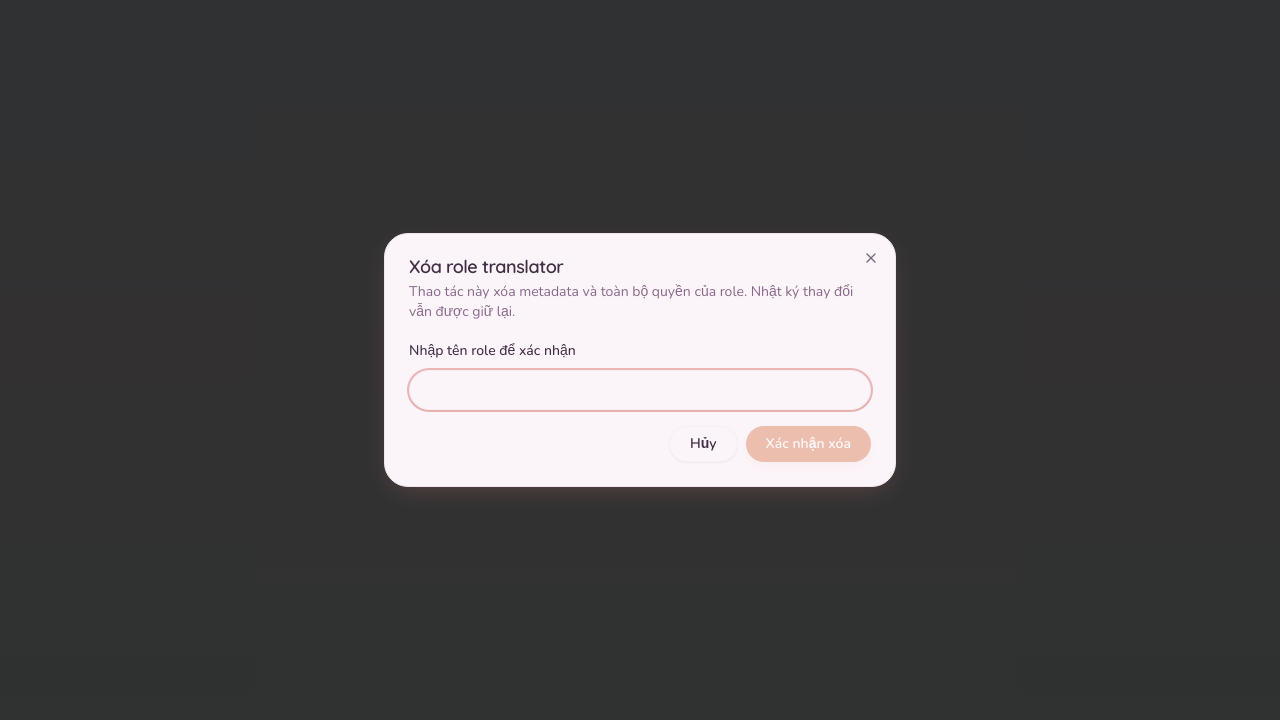
RoleDeleteDialog › requires the exact case-sensitive role name before deletion
Expected: the button "Xác nhận xóa" is disabled, [746,426,871,462]
Step 1. Type "Translator" into the field labelled "Nhập tên role để xác nhận" → (640, 390), box [409,370,871,410]
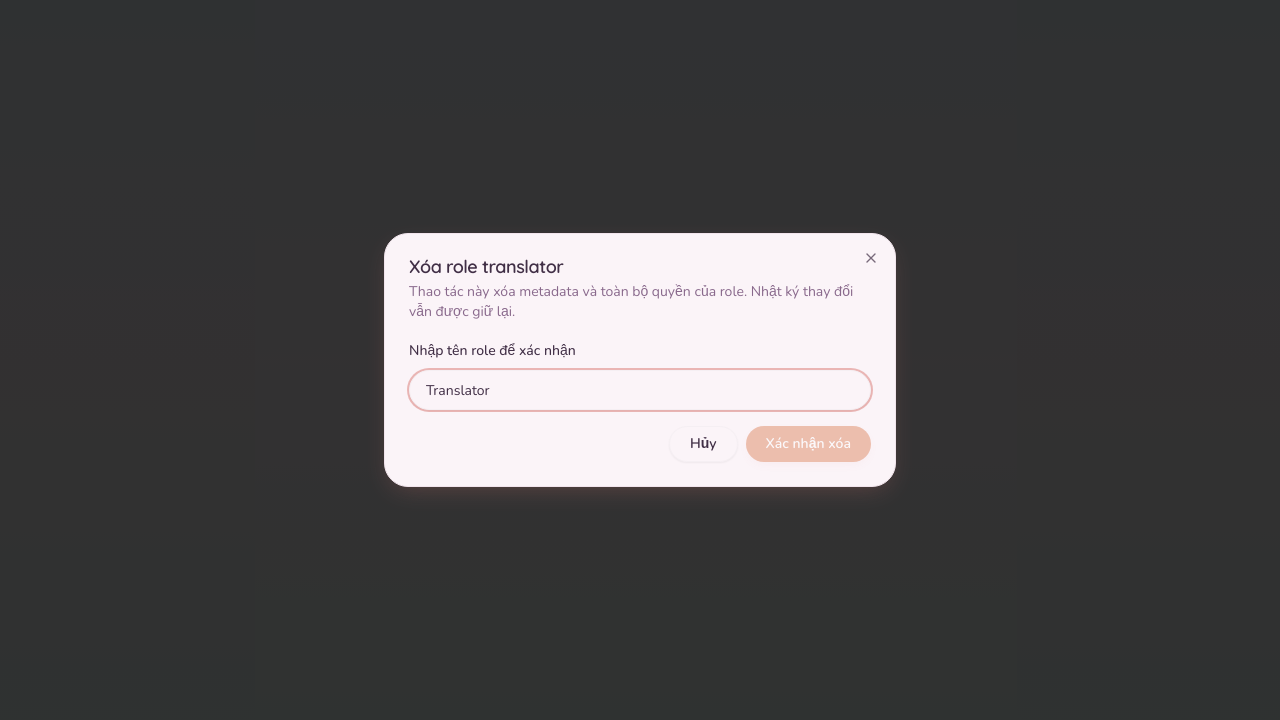
Expected: the button "Xác nhận xóa" is disabled, [746,426,871,462]
Step 2. Replace the text in the field labelled "Nhập tên role để xác nhận" with "translator" → (640, 390), box [409,370,871,410]
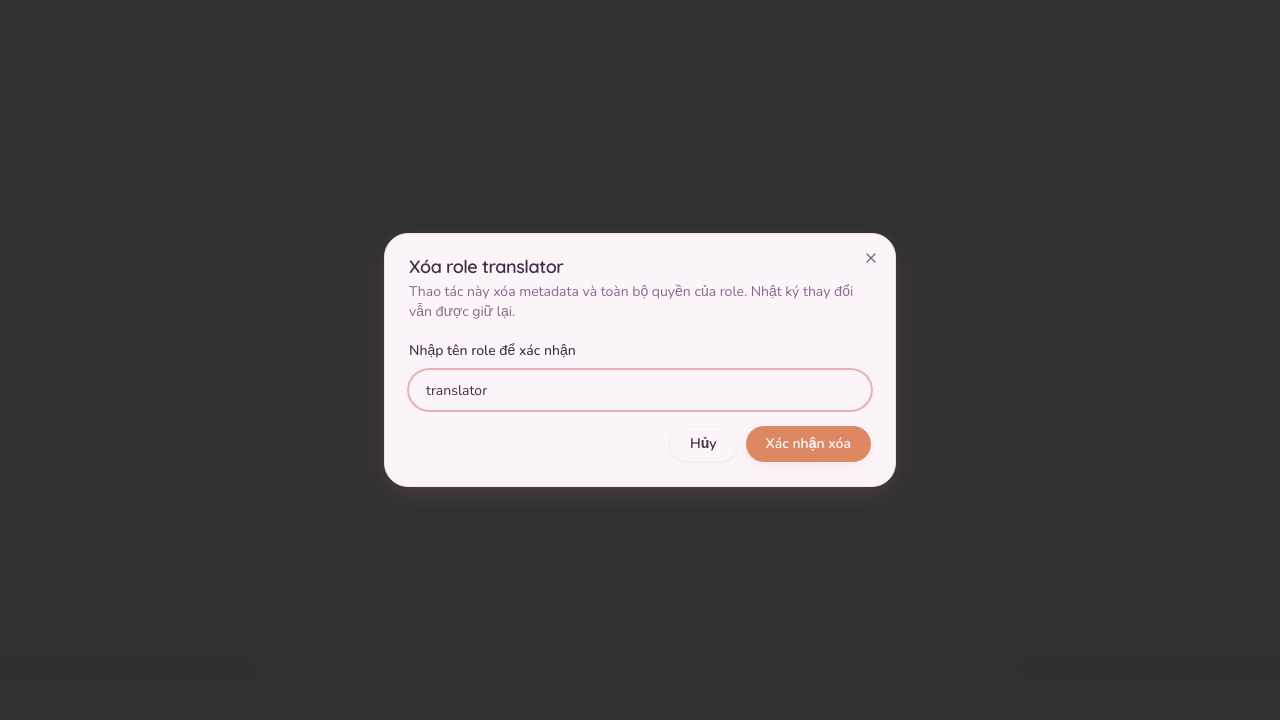
Expected: the button "Xác nhận xóa" is enabled, [746,426,871,462]
